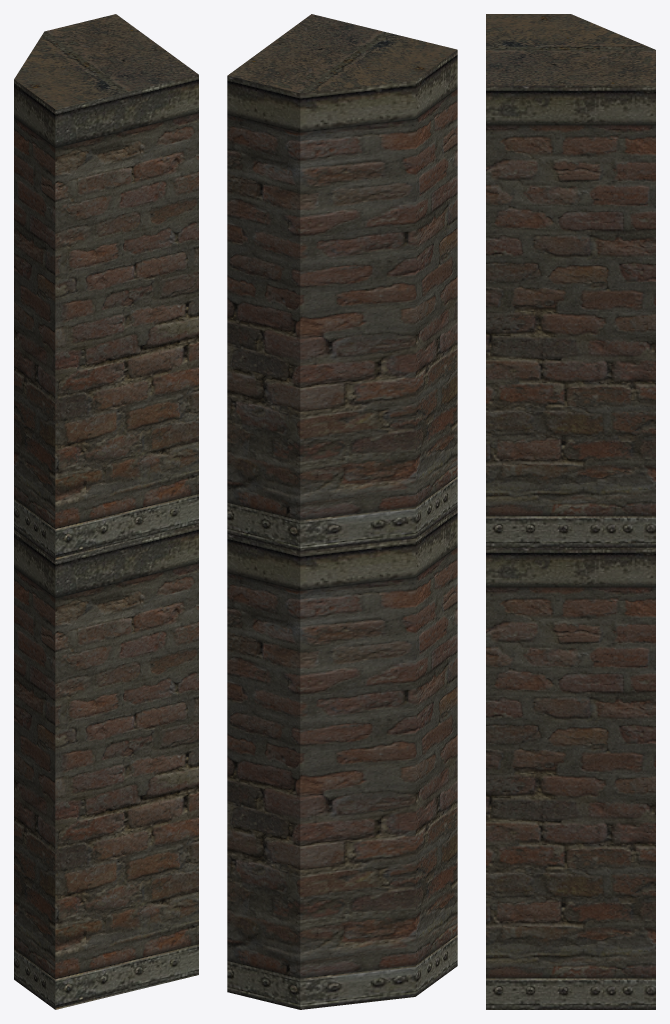
Rendered from pillar_hr_6.obj.
The picture shows the model from 3 angles, left to right: view 1: azimuth 30°, elevation 25°; view 2: azimuth 150°, elevation 25°; view 3: azimuth 270°, elevation 25°; orthographic projection. The views are drawn at different scales.
Visible parts, largest first — view 1: pillar_hr_6; view 2: pillar_hr_6; view 3: pillar_hr_6.
Boxes of the visible parts, x1=… form: pillar_hr_6: x1=14, y1=14, x2=198, y2=1009; pillar_hr_6: x1=227, y1=14, x2=457, y2=1009; pillar_hr_6: x1=486, y1=14, x2=655, y2=1009.
Bounding box in the file's own units: 1 × 6 × 1.
